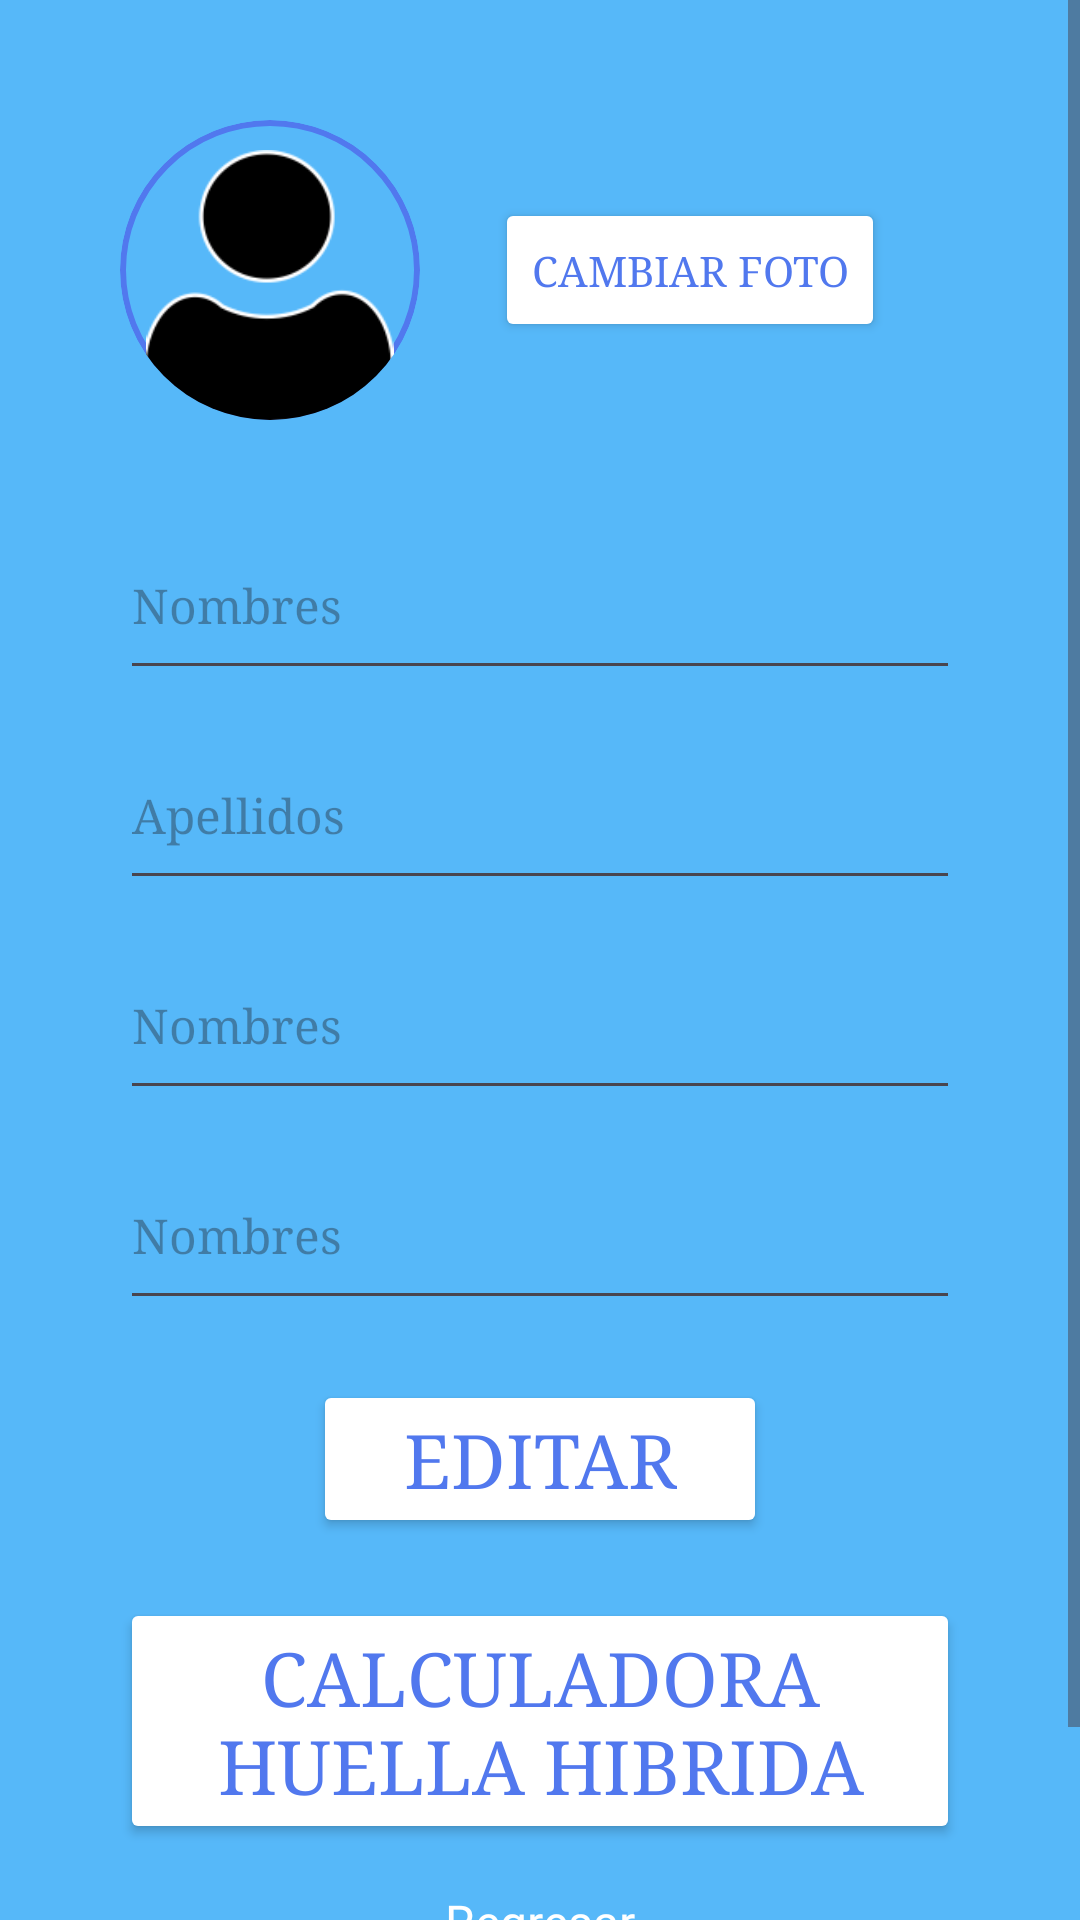

Where icons sit on this 1080x1920 app screen, as (x1, y1, x2, y2):
user: (120, 120, 420, 420)
